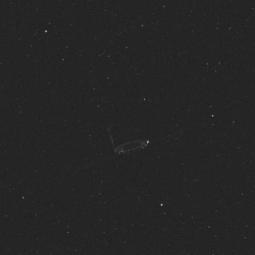double_start: (102, 109, 166, 177)
